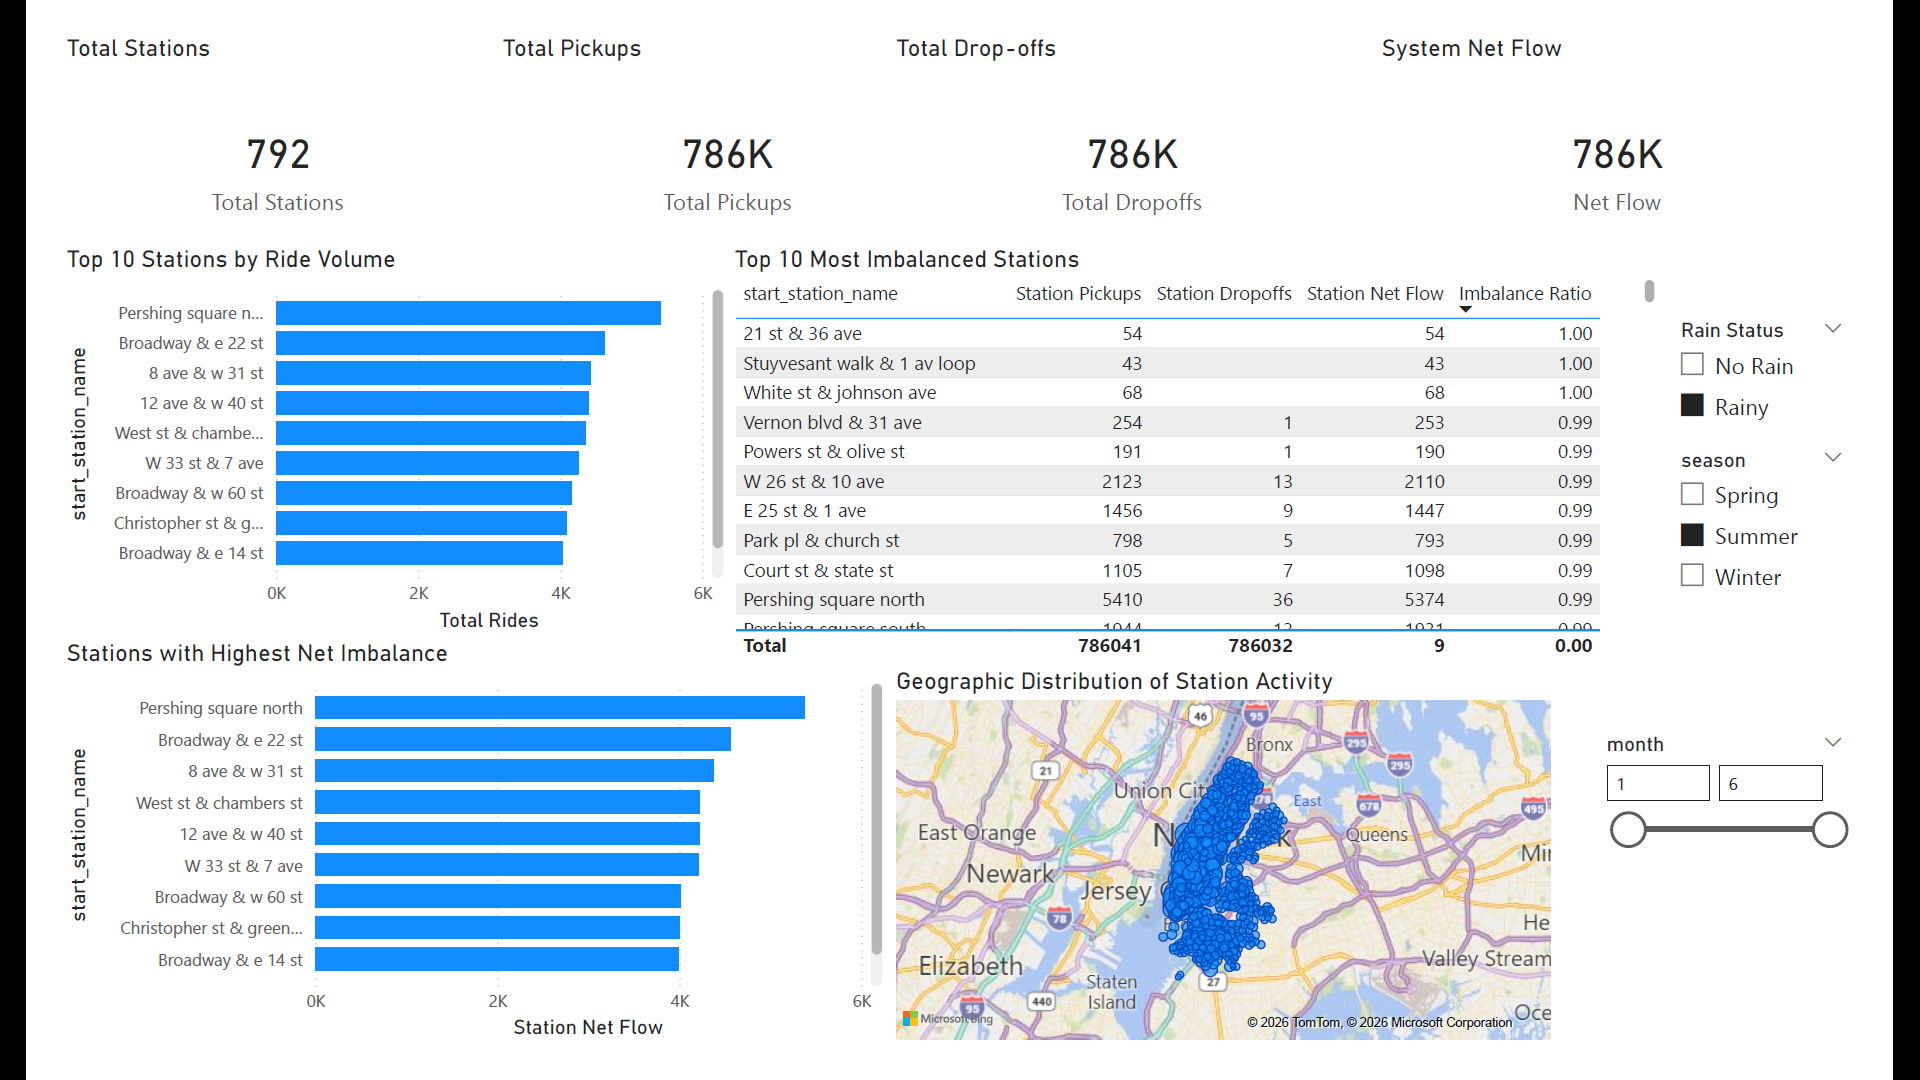

This screenshot's page, from the dashboard's own definition file:
{"tool":"powerbi","page":{"name":"Station Performance","canvas":[1280,720],"ordinal":2},"visuals":[{"type":"card","title":"Total Stations","fields":{"Values":["citibike_staging.Total Stations"]},"box":[0,0,310,170],"z":0},{"type":"card","title":"Total Pickups","fields":{"Values":["citibike_staging.Total Pickups"]},"box":[310,0,330,170],"z":1000},{"type":"card","title":"Total Drop-offs","fields":{"Values":["citibike_staging.Total Dropoffs"]},"box":[590,0,345,170],"z":2000},{"type":"card","title":"System Net Flow","fields":{"Values":["citibike_staging.Net Flow"]},"box":[935,0,345,170],"z":3000},{"type":"clusteredBarChart","title":"Top 10 Stations by Ride Volume","fields":{"Category":["citibike_staging.start_station_name"],"Y":["citibike_staging.Total Rides"]},"box":[0,150,476.7,280],"z":4000},{"type":"clusteredBarChart","title":"Stations with Highest Net Imbalance","fields":{"Category":["citibike_staging.start_station_name"],"Y":["citibike_staging.Station Net Flow"]},"box":[0,430,590,290],"z":5000},{"type":"map","title":"Geographic Distribution of Station Activity","fields":{"Y":["citibike_staging.start_station_latitude"],"X":["citibike_staging.start_station_longitude"],"Size":["citibike_staging.Total Rides"]},"box":[590,450,475,270],"z":6000},{"type":"slicer","fields":{"Values":["citibike_staging.season"]},"box":[1140,290,140,123.3],"z":7000},{"type":"slicer","fields":{"Values":["citibike_staging.month"]},"box":[1086.7,491.7,193.3,228.3],"z":8000},{"type":"slicer","fields":{"Values":["nyc_weather_staging.Rain Status"]},"box":[1140,198.3,140,91.7],"z":9000},{"type":"tableEx","title":"Top 10 Most Imbalanced Stations","fields":{"Values":["citibike_staging.start_station_name","citibike_staging.Station Pickups","citibike_staging.Station Dropoffs","citibike_staging.Station Net Flow","citibike_staging.Imbalance Ratio"]},"box":[475,150,665,300],"z":10000}]}

Visuals, with their boxes in screenshot pixels (x1, y1, x2, y2), scaled from the page's 1280x720 canvas onto the 1920x1080 screenshot:
"Total Stations" card: detection(0, 0, 465, 255)
"Total Pickups" card: detection(465, 0, 960, 255)
"Total Drop-offs" card: detection(885, 0, 1402, 255)
"System Net Flow" card: detection(1402, 0, 1919, 255)
"Top 10 Stations by Ride Volume" clusteredBarChart: detection(0, 225, 715, 645)
"Stations with Highest Net Imbalance" clusteredBarChart: detection(0, 645, 885, 1079)
"Geographic Distribution of Station Activity" map: detection(885, 675, 1598, 1079)
slicer - citibike_staging.season: detection(1710, 435, 1919, 620)
slicer - citibike_staging.month: detection(1630, 738, 1919, 1079)
slicer - nyc_weather_staging.Rain Status: detection(1710, 297, 1919, 435)
"Top 10 Most Imbalanced Stations" tableEx: detection(712, 225, 1710, 675)
